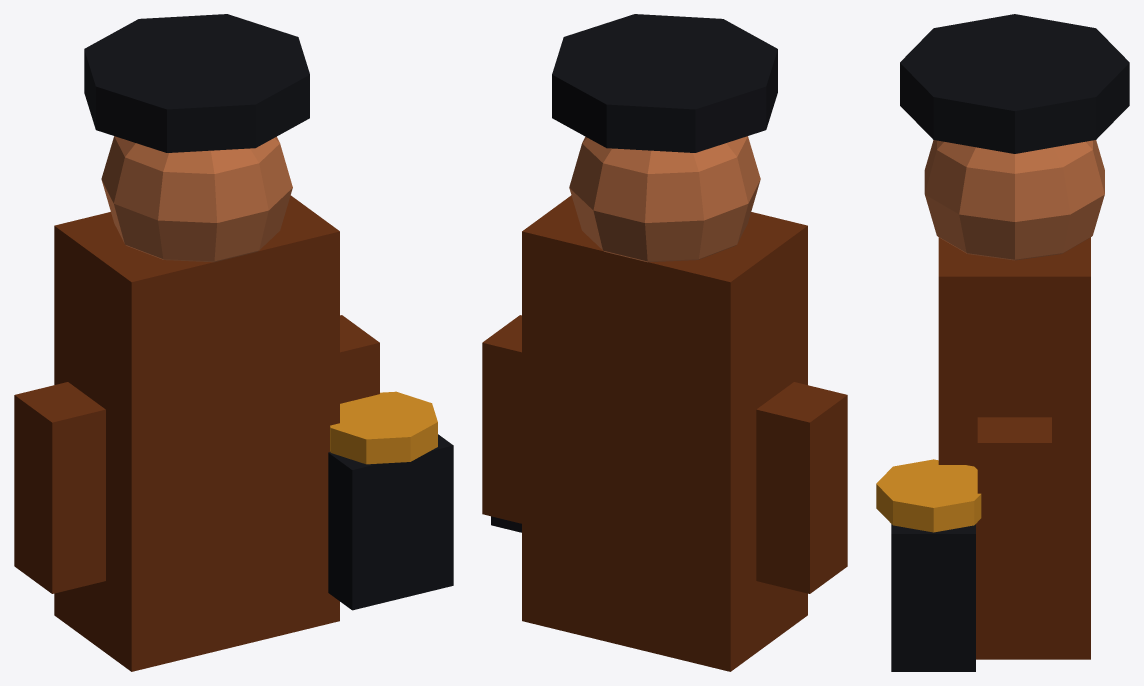
File: npc_merchant_v1.obj
3 views of the same model, side by side, from view 1: azimuth 30°, elevation 25°; view 2: azimuth 150°, elevation 25°; view 3: azimuth 270°, elevation 25° (orthographic).
Visible parts, largest first — view 1: npc_merchant_v1; view 2: npc_merchant_v1; view 3: npc_merchant_v1.
Part boxes in pixels (left/top/right/bottom): npc_merchant_v1: left=14, top=14, right=453, bottom=671; npc_merchant_v1: left=482, top=14, right=847, bottom=671; npc_merchant_v1: left=876, top=14, right=1129, bottom=671.
Size of the model in its own units: 1.2 by 1.78 by 0.75.
